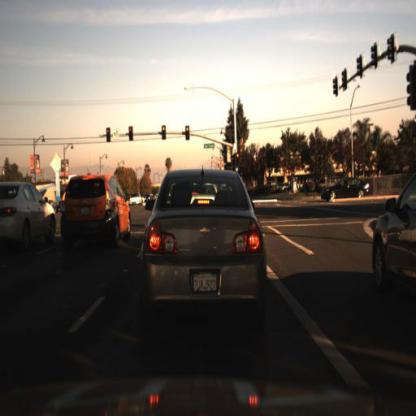car: (142, 172, 271, 329), (373, 150, 416, 301), (61, 173, 134, 242), (1, 181, 57, 251), (318, 173, 370, 207), (321, 175, 372, 203), (128, 192, 144, 210)
trafficLight-Red: (184, 123, 193, 142), (235, 152, 243, 167), (161, 125, 167, 143), (106, 124, 114, 137), (128, 125, 136, 137)
trafficLight-RedLeft: (126, 124, 134, 146), (105, 126, 113, 145)
